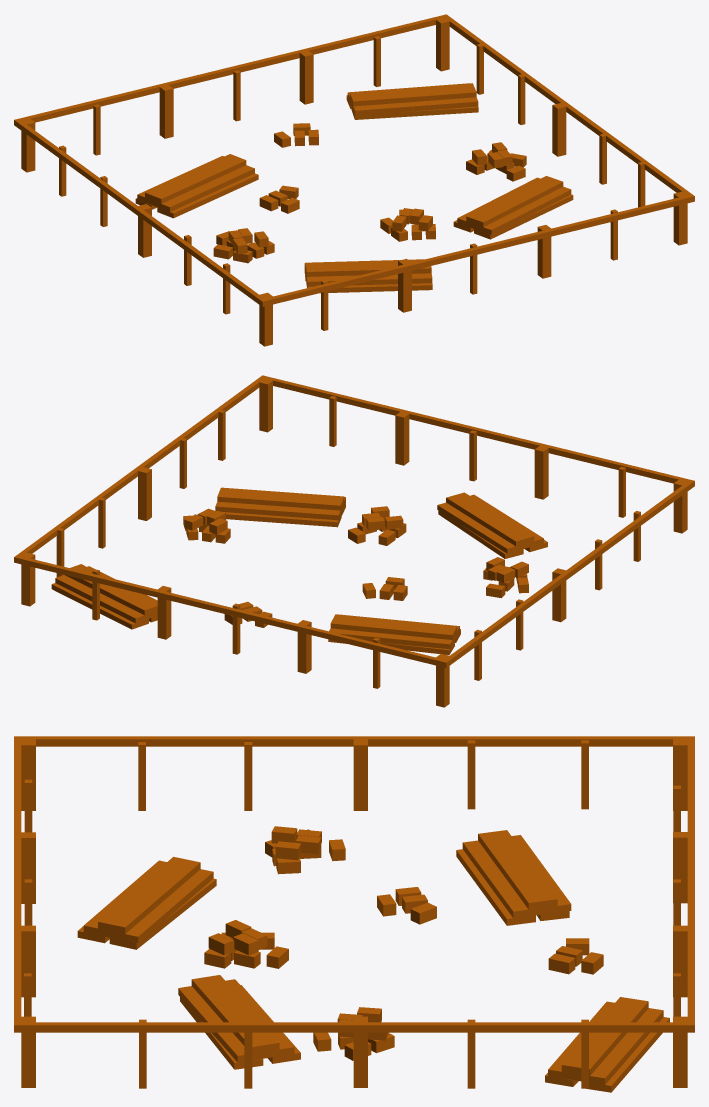
File: Towncenter_build.fbx
The picture shows the model from 3 angles, top to bottom: view 1: azimuth 30°, elevation 25°; view 2: azimuth 150°, elevation 25°; view 3: azimuth 270°, elevation 25°; orthographic projection. The views are drawn at different scales.
Visible parts, largest first — view 1: Cube, Cube.017, Cube.019, Cube.018, Cube.052, Cube.068, Cube.057, Cube.084, Cube.051, Cube.066, Cube.056, Cube.064 (+14 smaller); view 2: Cube.017, Cube, Cube.019, Cube.018, Cube.057, Cube.068, Cube.084, Cube.055, Cube.052, Cube.067, Cube.050, Cube.083 (+12 smaller); view 3: Cube.018, Cube.019, Cube.084, Cube.068, Cube.057, Cube, Cube.017, Cube.052, Cube.083, Cube.066, Cube.050, Cube.056 (+23 smaller).
Boxes of the visible parts, left/top/right/bottom form: Cube: left=259, top=195, right=690, bottom=306; Cube.017: left=14, top=15, right=443, bottom=126; Cube.019: left=16, top=120, right=263, bottom=304; Cube.018: left=442, top=14, right=694, bottom=202; Cube.052: left=349, top=83, right=476, bottom=106; Cube.068: left=145, top=154, right=246, bottom=203; Cube.057: left=466, top=176, right=563, bottom=227; Cube.084: left=305, top=259, right=431, bottom=276; Cube.051: left=351, top=97, right=478, bottom=115; Cube.066: left=153, top=165, right=254, bottom=211; Cube.056: left=474, top=186, right=571, bottom=234; Cube.064: left=157, top=173, right=258, bottom=218; Cube.017: left=18, top=556, right=449, bottom=667; Cube: left=265, top=376, right=694, bottom=487; Cube.019: left=445, top=481, right=692, bottom=665; Cube.018: left=14, top=375, right=266, bottom=563; Cube.057: left=217, top=487, right=344, bottom=510; Cube.068: left=330, top=614, right=457, bottom=639; Cube.084: left=446, top=492, right=534, bottom=546; Cube.055: left=215, top=501, right=342, bottom=520; Cube.052: left=65, top=564, right=157, bottom=615; Cube.067: left=329, top=628, right=454, bottom=649; Cube.050: left=55, top=575, right=152, bottom=623; Cube.083: left=437, top=502, right=525, bottom=553; Cube.018: left=14, top=1022, right=694, bottom=1032; Cube.019: left=21, top=736, right=687, bottom=746; Cube.084: left=98, top=856, right=200, bottom=933; Cube.068: left=478, top=830, right=557, bottom=909; Cube.057: left=191, top=975, right=279, bottom=1053; Cube: left=14, top=736, right=21, bottom=1022; Cube.017: left=687, top=736, right=694, bottom=1022; Cube.052: left=561, top=997, right=648, bottom=1075; Cube.083: left=111, top=869, right=213, bottom=943; Cube.066: left=462, top=840, right=542, bottom=918; Cube.050: left=576, top=1008, right=663, bottom=1084; Cube.056: left=178, top=986, right=266, bottom=1062.
Bounding box in the file's own units: 3114 × 362 × 3100.
